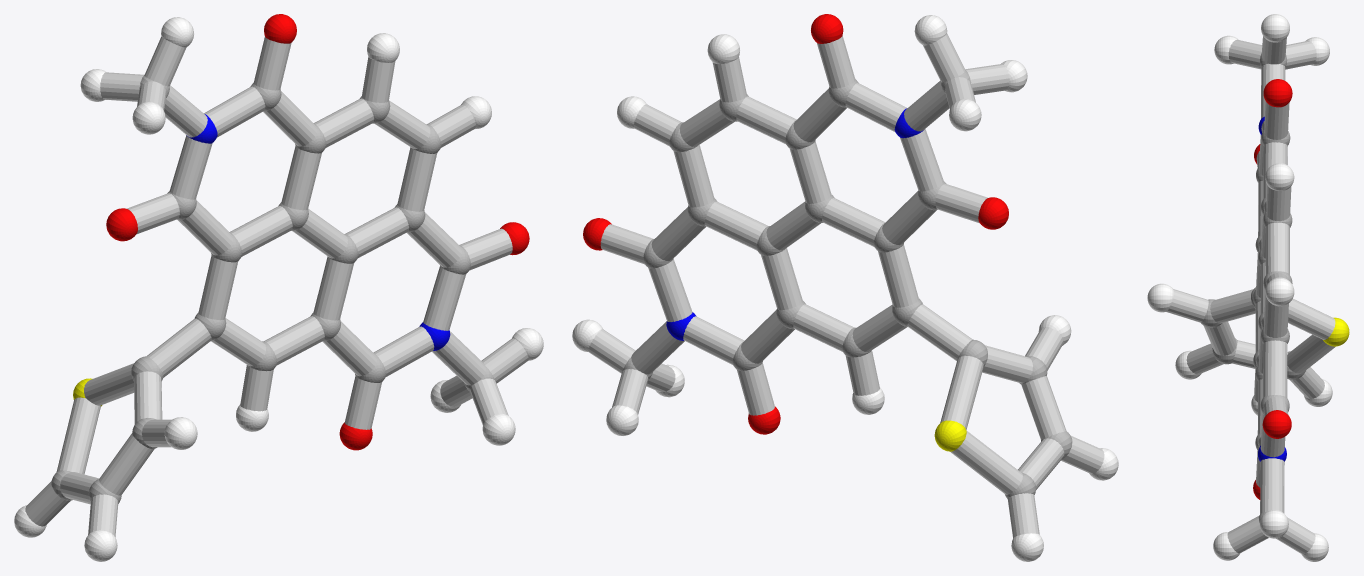
The model's file is Dimethyl_Naphthalene_Dicarboximide_Phi_30_Theta_280_Thiophene.glb.
The picture shows the model from 3 angles, left to right: view 1: azimuth 30°, elevation 25°; view 2: azimuth 150°, elevation 25°; view 3: azimuth 270°, elevation 25°; orthographic projection. The views are drawn at different scales.
Visible parts, largest first — view 1: grp14119, grp7241, grp1, grp12309, grp11585; view 2: grp14119, grp7241, grp1, grp12309, grp13757, grp11585; view 3: grp14119, grp7241, grp1, grp12309, grp13757.
Part boxes in pixels (x1,y1,x2,y2): grp14119: (25,36,528,537); grp7241: (14,17,543,561); grp1: (51,75,495,503); grp12309: (106,14,529,450); grp11585: (186,114,450,350); grp14119: (588,33,1104,538); grp7241: (572,15,1118,561); grp1: (623,70,1072,498); grp12309: (583,14,1008,434); grp13757: (934,420,966,451); grp11585: (666,108,923,340); grp14119: (1166,36,1335,554); grp7241: (1147,14,1332,561); grp1: (1201,53,1305,522); grp12309: (1253,79,1292,499); grp13757: (1323,317,1349,346).
Bounding box in the file's own units: 10.5 × 10.09 × 4.17.
